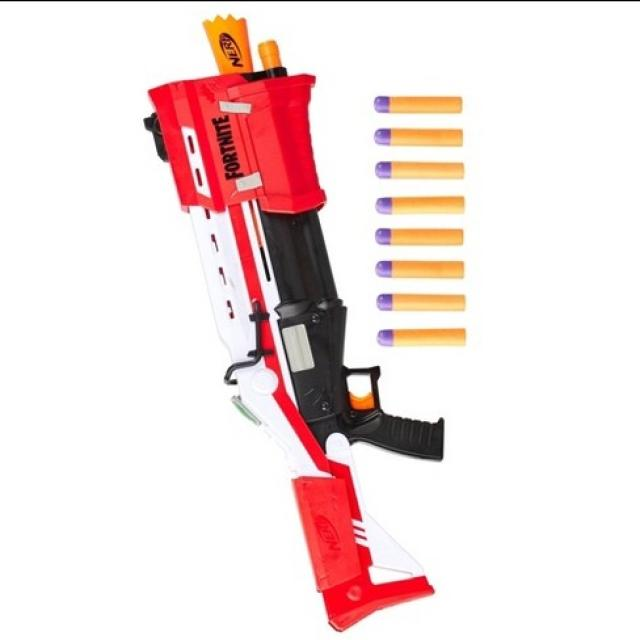Nerf gun: (136, 12, 449, 633)
